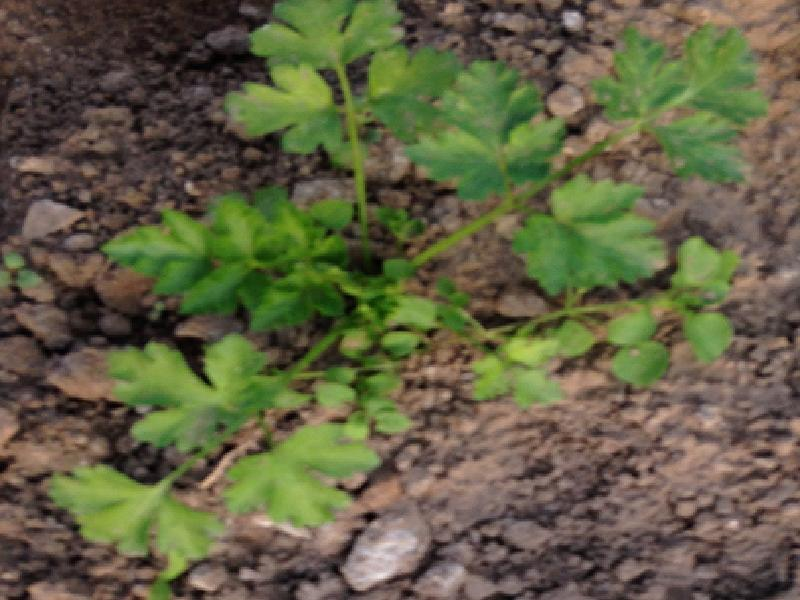radish: (61, 40, 798, 569)
